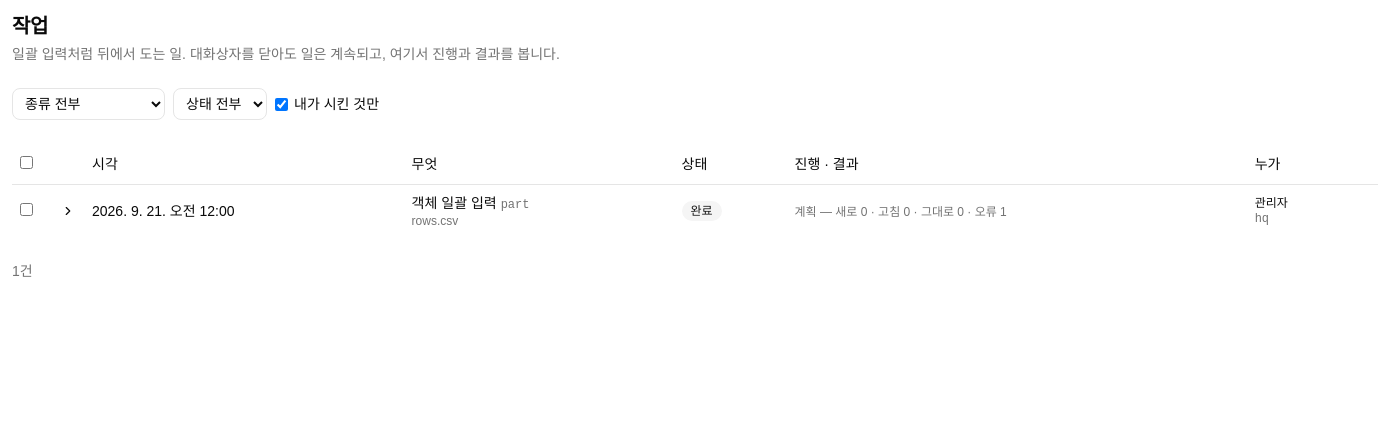
Test case: 작업 화면 › 오류가 있는 계획은 적용이 안 선다 — 고쳐서 다시 올리라고 말한다
This screenshot has width=1378, height=429.
Click the button named "펼치기": [68, 210] box [52,198,84,222]
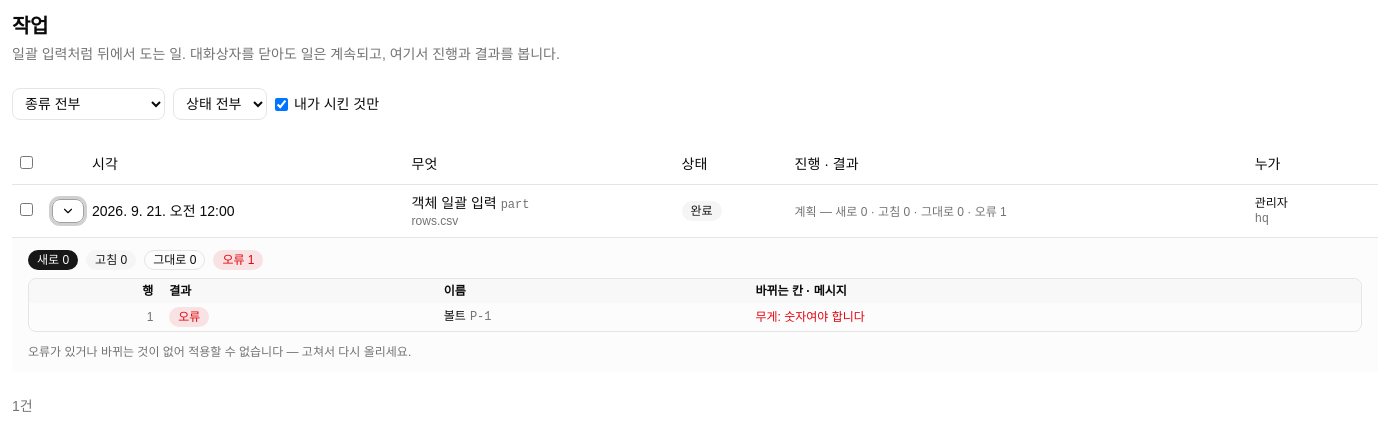
expect the text "오류가 있거나 바뀌는 것이 없어 적용할 수 없습니다 — 고쳐서 다시 올리세요." is shown: met, box [28,344,411,360]
expect the text "무게: 숫자여야 합니다" is shown: met, box [756,310,865,324]
